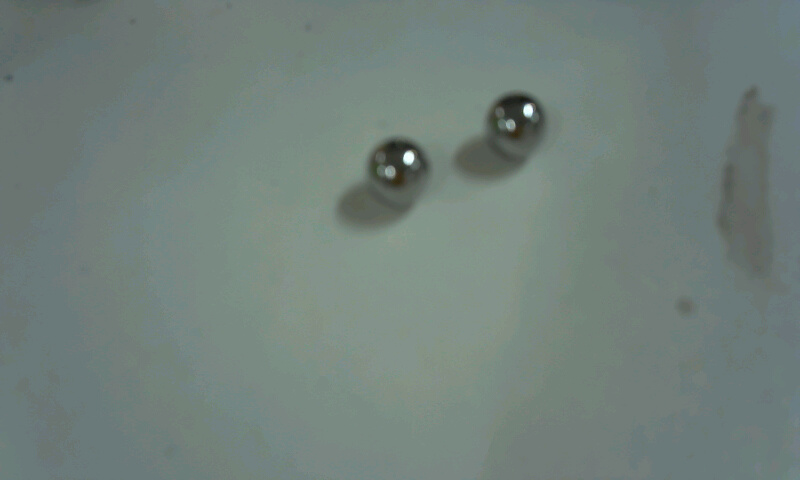steelball: (356, 134, 447, 227), (478, 71, 556, 173)
